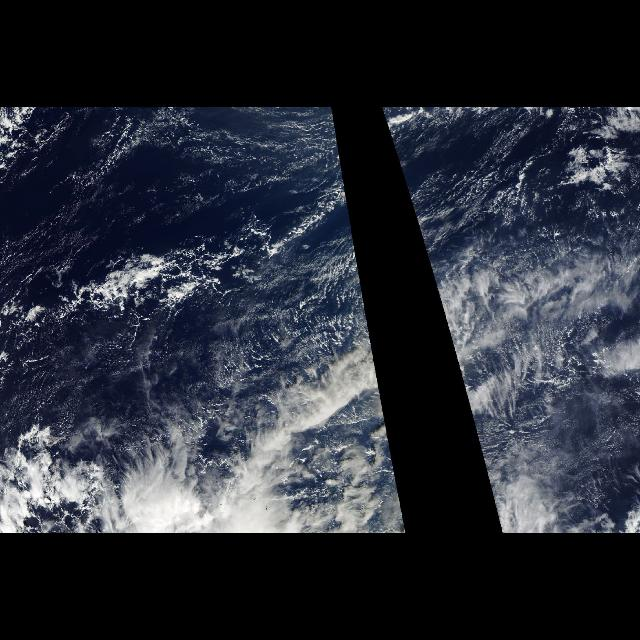Fish: (58, 250, 264, 322)
